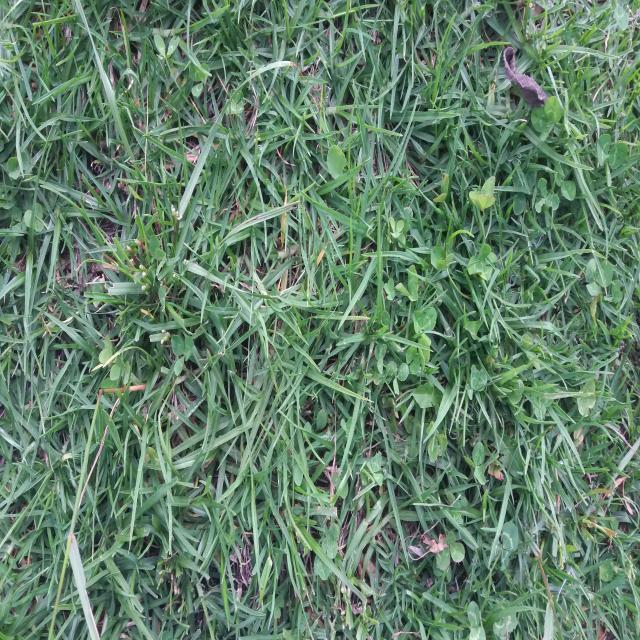Four Leaf Clover: (468, 243, 497, 281), (577, 379, 595, 417)
